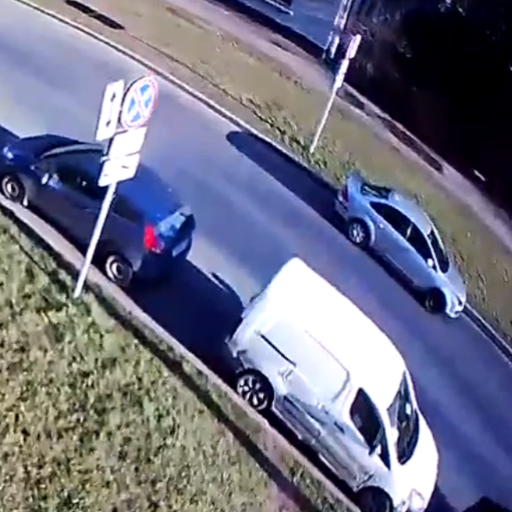Car: (224, 253, 437, 512), (0, 129, 189, 286), (335, 169, 464, 321)
